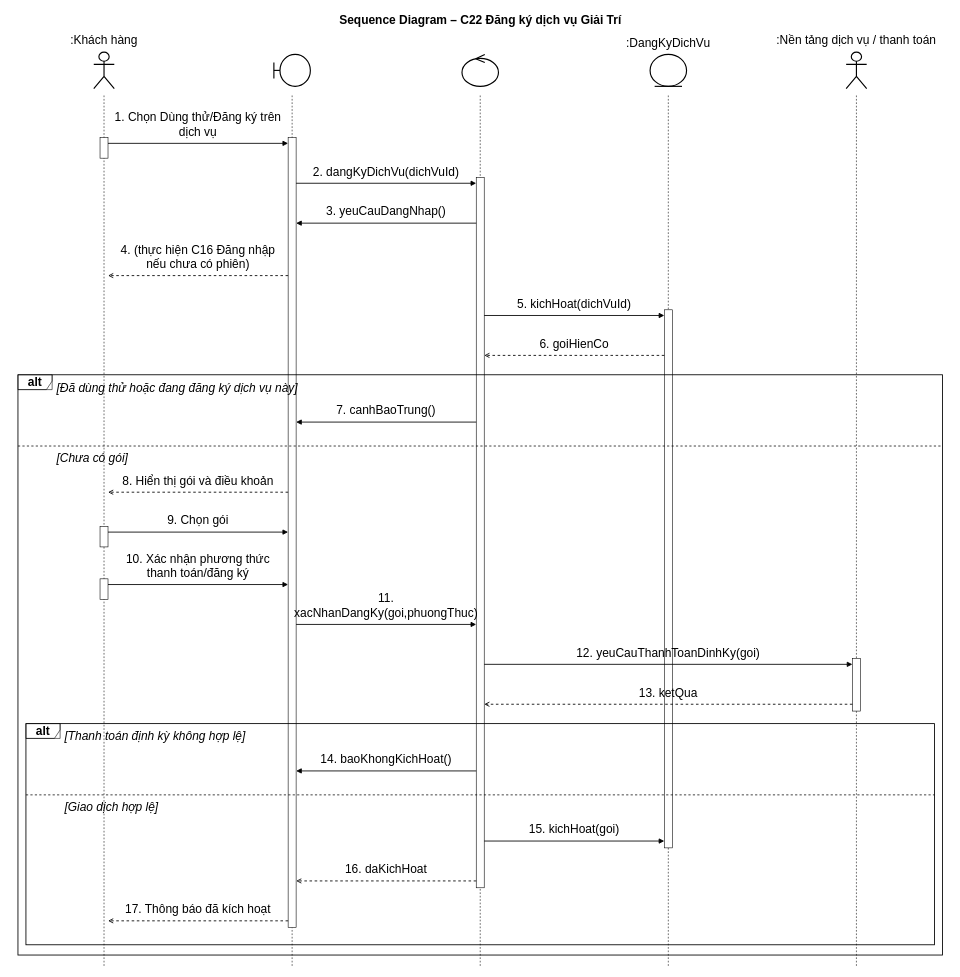
Some shapes in this 960 by 977 pixel diagram are drawn without their labels. The shapes that lost their labels are listed below. From the top down, each one's centre as x and y in pixels, then its label:
At (292,70): ":DangKyGiaiTriPage".
At (480,70): ":DangKyGiaiTriController".
